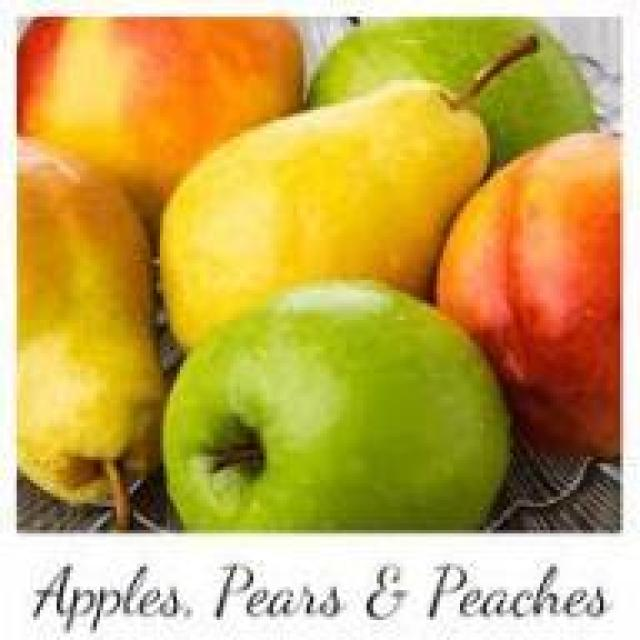apple: (180, 300, 513, 563), (167, 67, 473, 353), (10, 137, 197, 493), (434, 147, 624, 453), (17, 13, 283, 190), (310, 33, 590, 167)
